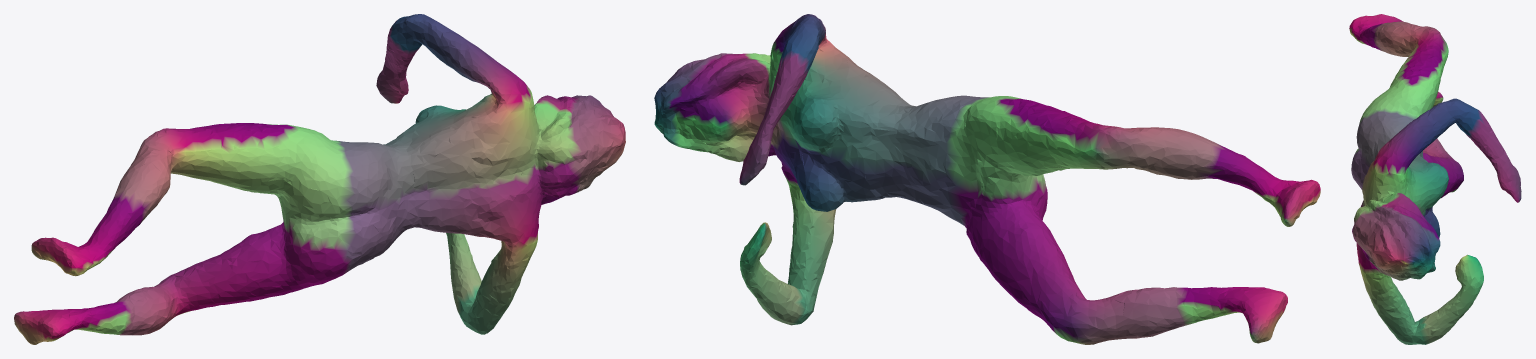
File: woman-1.off.obj
3 renders of one model, left to right at view 1: azimuth 30°, elevation 25°; view 2: azimuth 150°, elevation 25°; view 3: azimuth 270°, elevation 25°, orthographic. The views are drawn at different scales.
Bounding box in the file's own units: 1.6 × 0.7916 × 0.5314.
